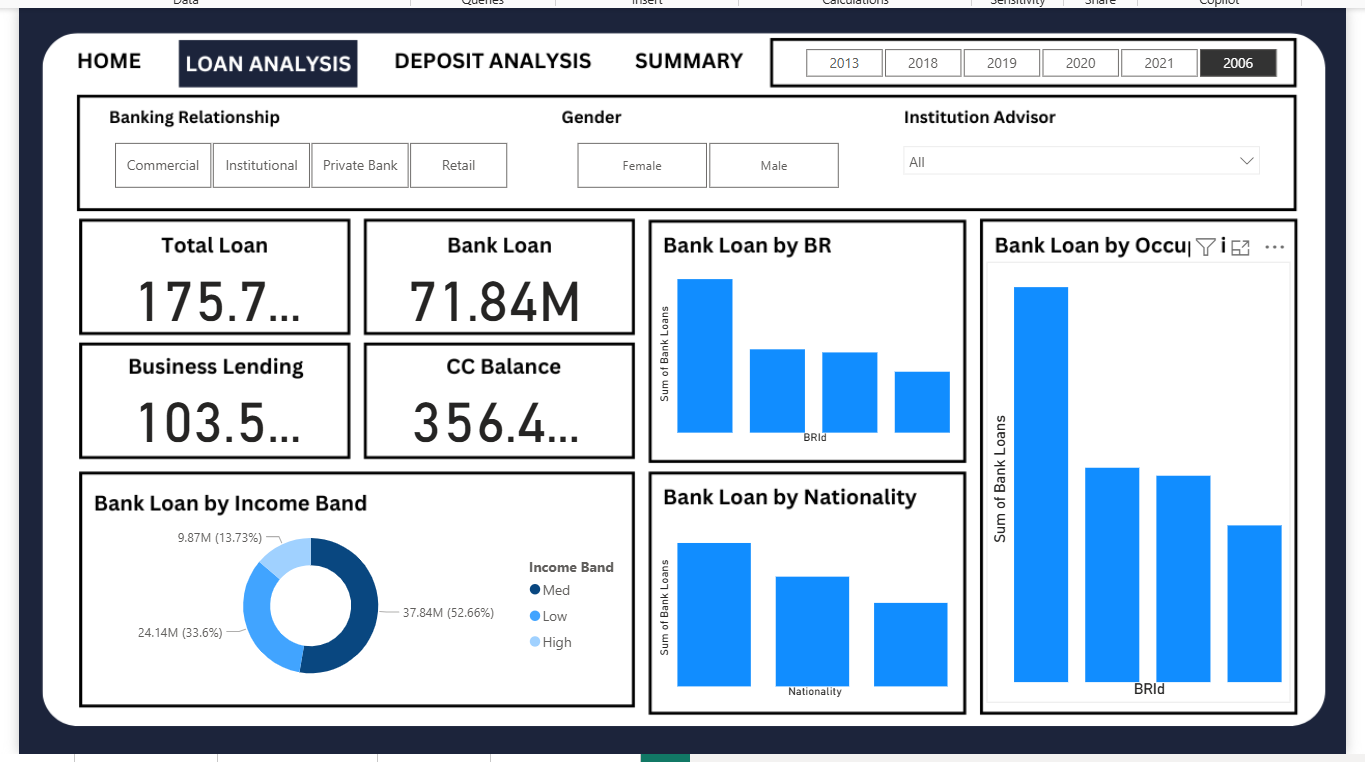

What the dashboard file says about the page in this screenshot:
{"tool":"powerbi","page":{"name":"Loan Analysis","canvas":[1280,720],"ordinal":1},"visuals":[{"type":"slicer","fields":{"Values":["banking_case customer.Year of Joining"]},"box":[733.3,32.2,504.1,34.9],"z":0},{"type":"actionButton","box":[36.4,31.7,99.7,39.6],"z":1000},{"type":"actionButton","box":[348.2,31.7,221.6,39.6],"z":2000},{"type":"actionButton","box":[587.1,31.7,123.4,39.6],"z":3000},{"type":"card","fields":{"Values":["banking_case customer.Total Loan"]},"box":[100.9,243.7,179.5,65.5],"z":4000},{"type":"card","fields":{"Values":["Sum(banking_case customer.Bank Loans)"]},"box":[369.5,243.7,179.5,65.5],"z":5000},{"type":"card","fields":{"Values":["Sum(banking_case customer.Business Lending)"]},"box":[100.9,360.4,179.5,65.5],"z":6000},{"type":"card","fields":{"Values":["Sum(banking_case customer.Credit Card Balance)"]},"box":[370.8,360.4,179.5,65.5],"z":7000},{"type":"donutChart","fields":{"Category":["banking_case customer.Income Band"],"Y":["Sum(banking_case customer.Bank Loans)"]},"box":[66.8,488.8,530.7,176.9],"z":8000},{"type":"clusteredColumnChart","fields":{"Category":["banking_case customer.BRId"],"Y":["Sum(banking_case customer.Bank Loans)"]},"box":[613.3,243.7,293.5,182.1],"z":9000},{"type":"clusteredColumnChart","fields":{"Category":["banking_case customer.Nationality"],"Y":["Sum(banking_case customer.Bank Loans)"]},"box":[613.3,488.8,293.5,182.1],"z":10000},{"type":"clusteredColumnChart","fields":{"Category":["banking_case customer.BRId"],"Y":["Sum(banking_case customer.Bank Loans)"]},"box":[933.7,245.3,292.8,425.7],"z":11000},{"type":"slicer","fields":{"Values":["banking_case customer.BRId"]},"box":[66.8,123.2,428.5,57.7],"z":12000},{"type":"slicer","fields":{"Values":["banking_case customer.GenderId"]},"box":[512.4,123.2,302.7,57.7],"z":13000},{"type":"slicer","fields":{"Values":["banking_case customer.IAId"]},"box":[843.9,123.2,364.3,57.7],"z":14000}]}

Visuals, with their boxes on the page's 1280x720 design canvas (x1, y1, x2, y2). These are canvas units, not pixel positions in the 1365x762 screenshot, which may show the page scaled, cropped or inside an application window:
slicer - banking_case customer.Year of Joining: {"x1": 733, "y1": 32, "x2": 1237, "y2": 67}
actionButton: {"x1": 36, "y1": 32, "x2": 136, "y2": 71}
actionButton: {"x1": 348, "y1": 32, "x2": 570, "y2": 71}
actionButton: {"x1": 587, "y1": 32, "x2": 710, "y2": 71}
card - banking_case customer.Total Loan: {"x1": 101, "y1": 244, "x2": 280, "y2": 309}
card - Sum(banking_case customer.Bank Loans): {"x1": 370, "y1": 244, "x2": 549, "y2": 309}
card - Sum(banking_case customer.Business Lending): {"x1": 101, "y1": 360, "x2": 280, "y2": 426}
card - Sum(banking_case customer.Credit Card Balance): {"x1": 371, "y1": 360, "x2": 550, "y2": 426}
donutChart - banking_case customer.Income Band x Sum(banking_case customer.Bank Loans): {"x1": 67, "y1": 489, "x2": 598, "y2": 666}
clusteredColumnChart - banking_case customer.BRId x Sum(banking_case customer.Bank Loans): {"x1": 613, "y1": 244, "x2": 907, "y2": 426}
clusteredColumnChart - banking_case customer.Nationality x Sum(banking_case customer.Bank Loans): {"x1": 613, "y1": 489, "x2": 907, "y2": 671}
clusteredColumnChart - banking_case customer.BRId x Sum(banking_case customer.Bank Loans): {"x1": 934, "y1": 245, "x2": 1226, "y2": 671}
slicer - banking_case customer.BRId: {"x1": 67, "y1": 123, "x2": 495, "y2": 181}
slicer - banking_case customer.GenderId: {"x1": 512, "y1": 123, "x2": 815, "y2": 181}
slicer - banking_case customer.IAId: {"x1": 844, "y1": 123, "x2": 1208, "y2": 181}
